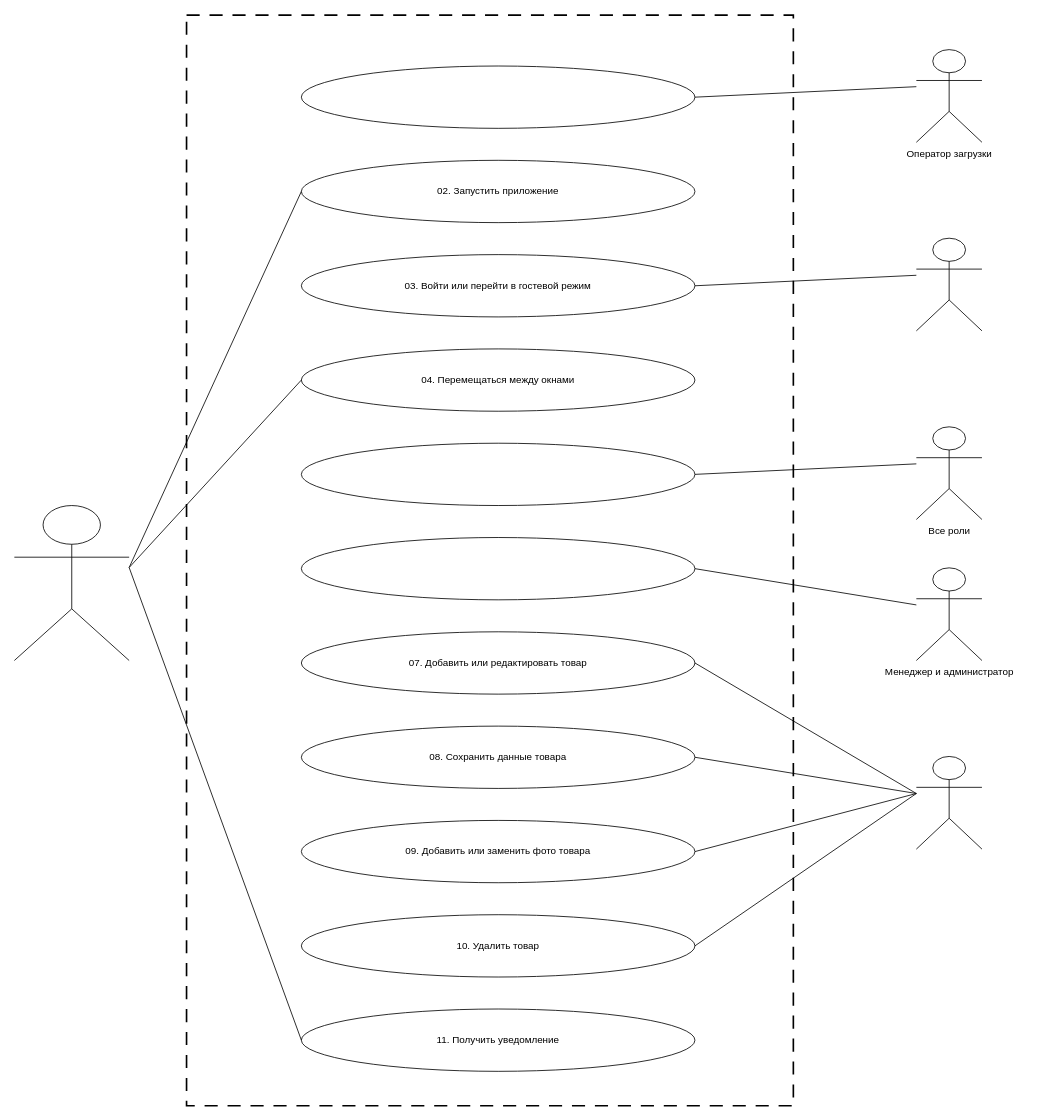
This 1057x1120 diagram has some shape labels left out. Here are the shapes that lost their labels. From the top down, the box of each, then its label:
(301, 65, 695, 128): 01. Импортировать подготовленные данные
(916, 237, 982, 331): Гость, клиент, менеджер, администратор
(301, 442, 695, 506): 05. Просматривать каталог
(14, 505, 129, 661): Пользователь
(301, 537, 695, 600): 06. Искать, фильтровать и сортировать товары
(916, 756, 982, 849): Администратор
